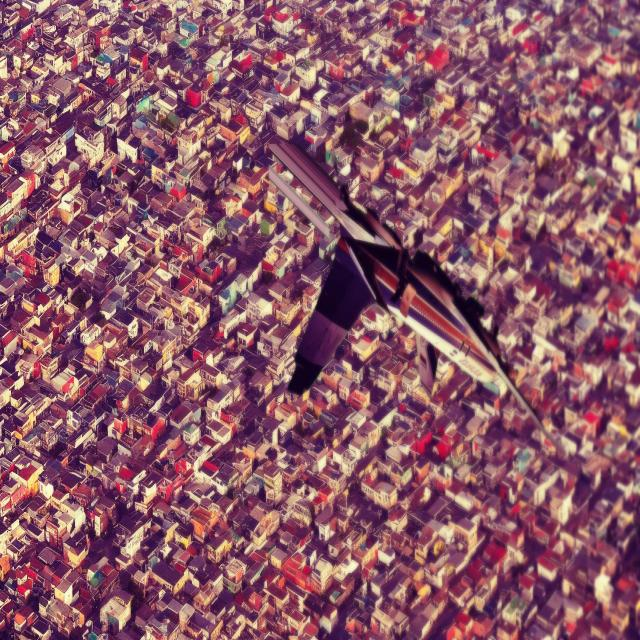airplane: (263, 134, 567, 460)
